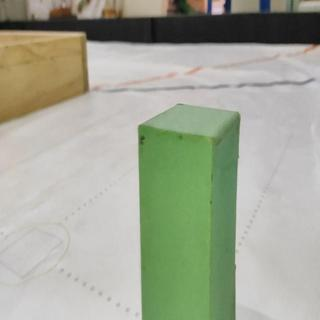greenbox: (135, 101, 242, 320)
